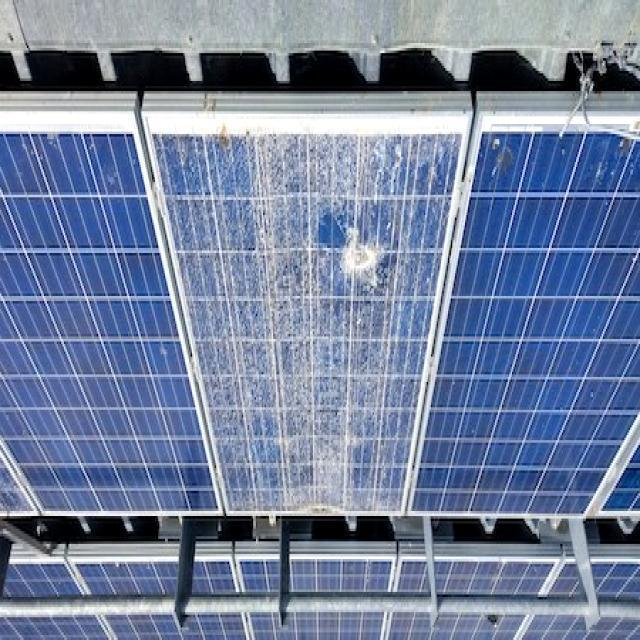cracked: (164, 107, 462, 517)
